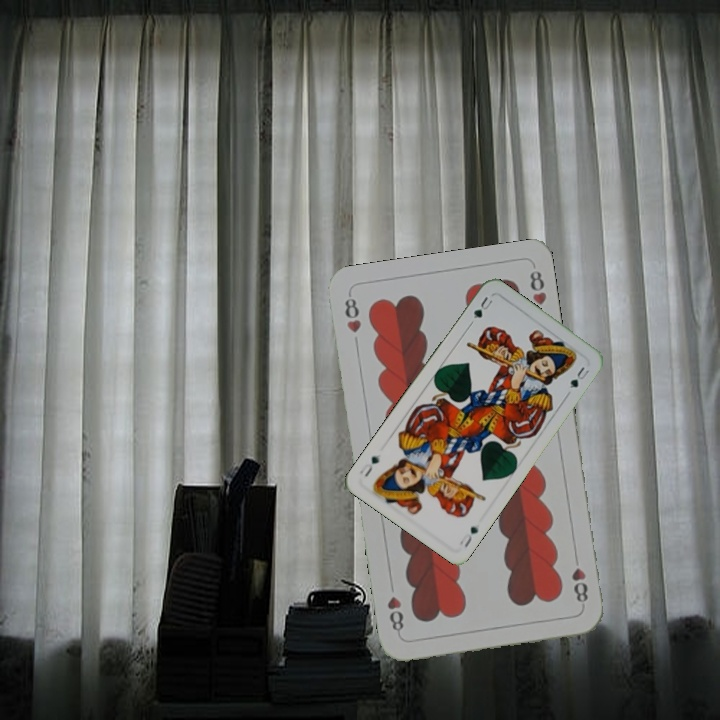GU: (466, 292, 495, 327), (455, 522, 481, 550)
H8: (568, 550, 591, 609), (340, 290, 364, 336)
